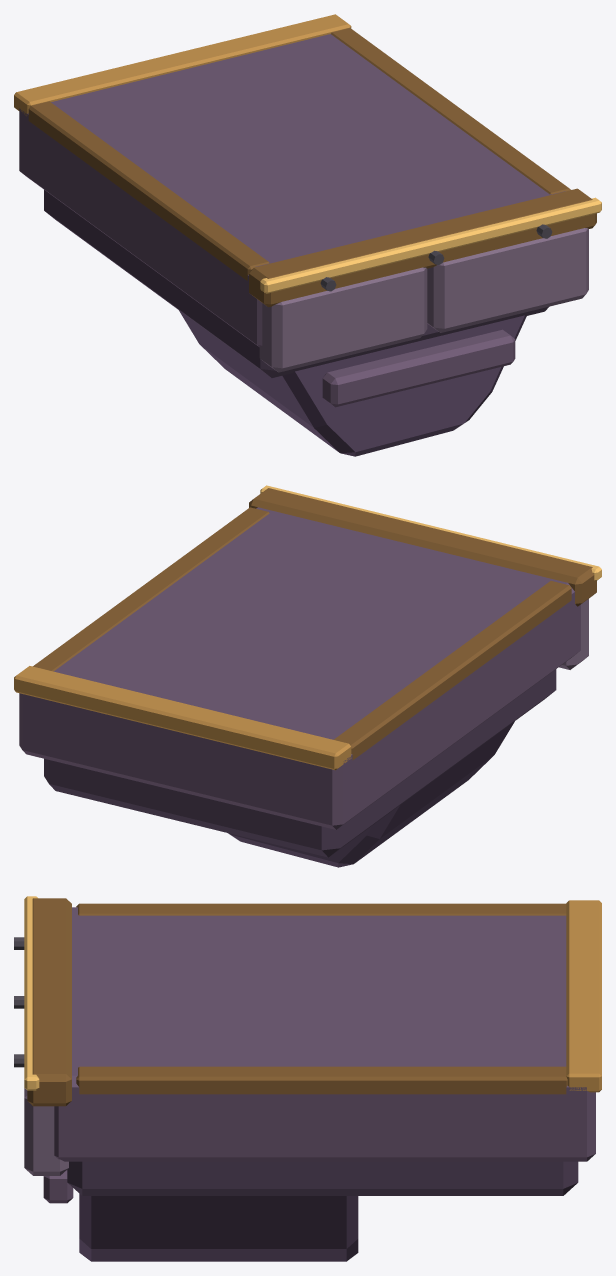
The model's file is SM_Vault_RetakeDeck_02.fbx.
3 renders of one model, top to bottom at view 1: azimuth 30°, elevation 25°; view 2: azimuth 150°, elevation 25°; view 3: azimuth 270°, elevation 25°, orthographic. The views are drawn at different scales.
Visible parts, largest first — view 1: SM_Vault_RetakeDeck_02; view 2: SM_Vault_RetakeDeck_02; view 3: SM_Vault_RetakeDeck_02.
Part boxes in pixels (x1,y1,x2,y2): SM_Vault_RetakeDeck_02: [14, 14, 601, 456]; SM_Vault_RetakeDeck_02: [14, 485, 601, 867]; SM_Vault_RetakeDeck_02: [14, 896, 601, 1261].
Bounding box in the file's own units: 146 × 198 × 92.92.
